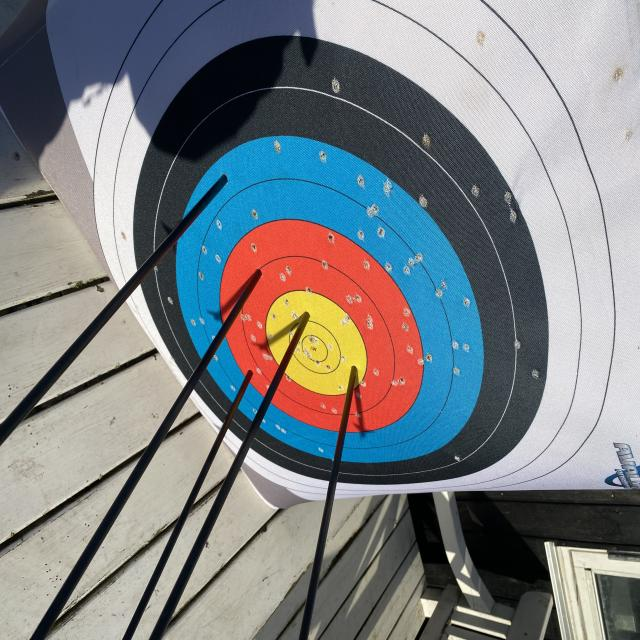Arrow_Blue: (199, 151, 257, 214)
Arrow_Red: (236, 251, 283, 310), (238, 352, 260, 397)
Arrow_Yellow: (294, 296, 322, 336), (340, 348, 361, 392)
